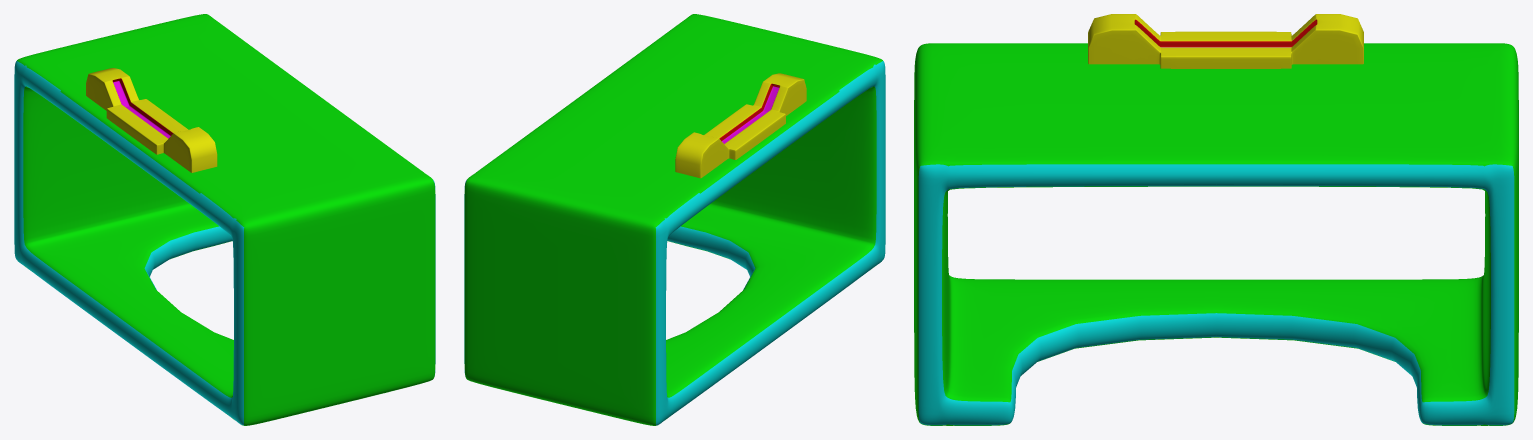
Rendered from Simlple_Table.fbx.
3 renders of one model, left to right at view 1: azimuth 30°, elevation 25°; view 2: azimuth 150°, elevation 25°; view 3: azimuth 270°, elevation 25°, orthographic. The views are drawn at different scales.
Parts seen in each view (by area): view 1: Simple_Table; view 2: Simple_Table; view 3: Simple_Table.
Part boxes in pixels (left/top/right/bottom): Simple_Table: left=14, top=14, right=435, bottom=425; Simple_Table: left=464, top=14, right=885, bottom=425; Simple_Table: left=914, top=14, right=1518, bottom=425.
Bounding box in the file's own units: 90.06 × 102 × 184.
